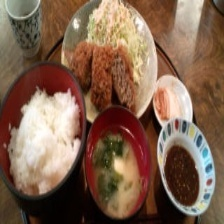sabzi: (162, 142, 206, 211)
